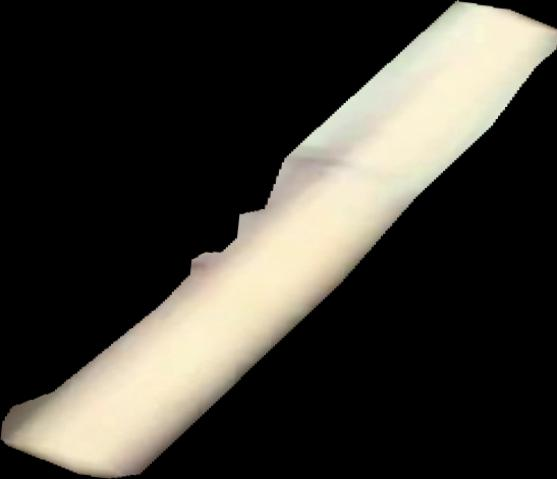backward: (1, 1, 557, 479)
